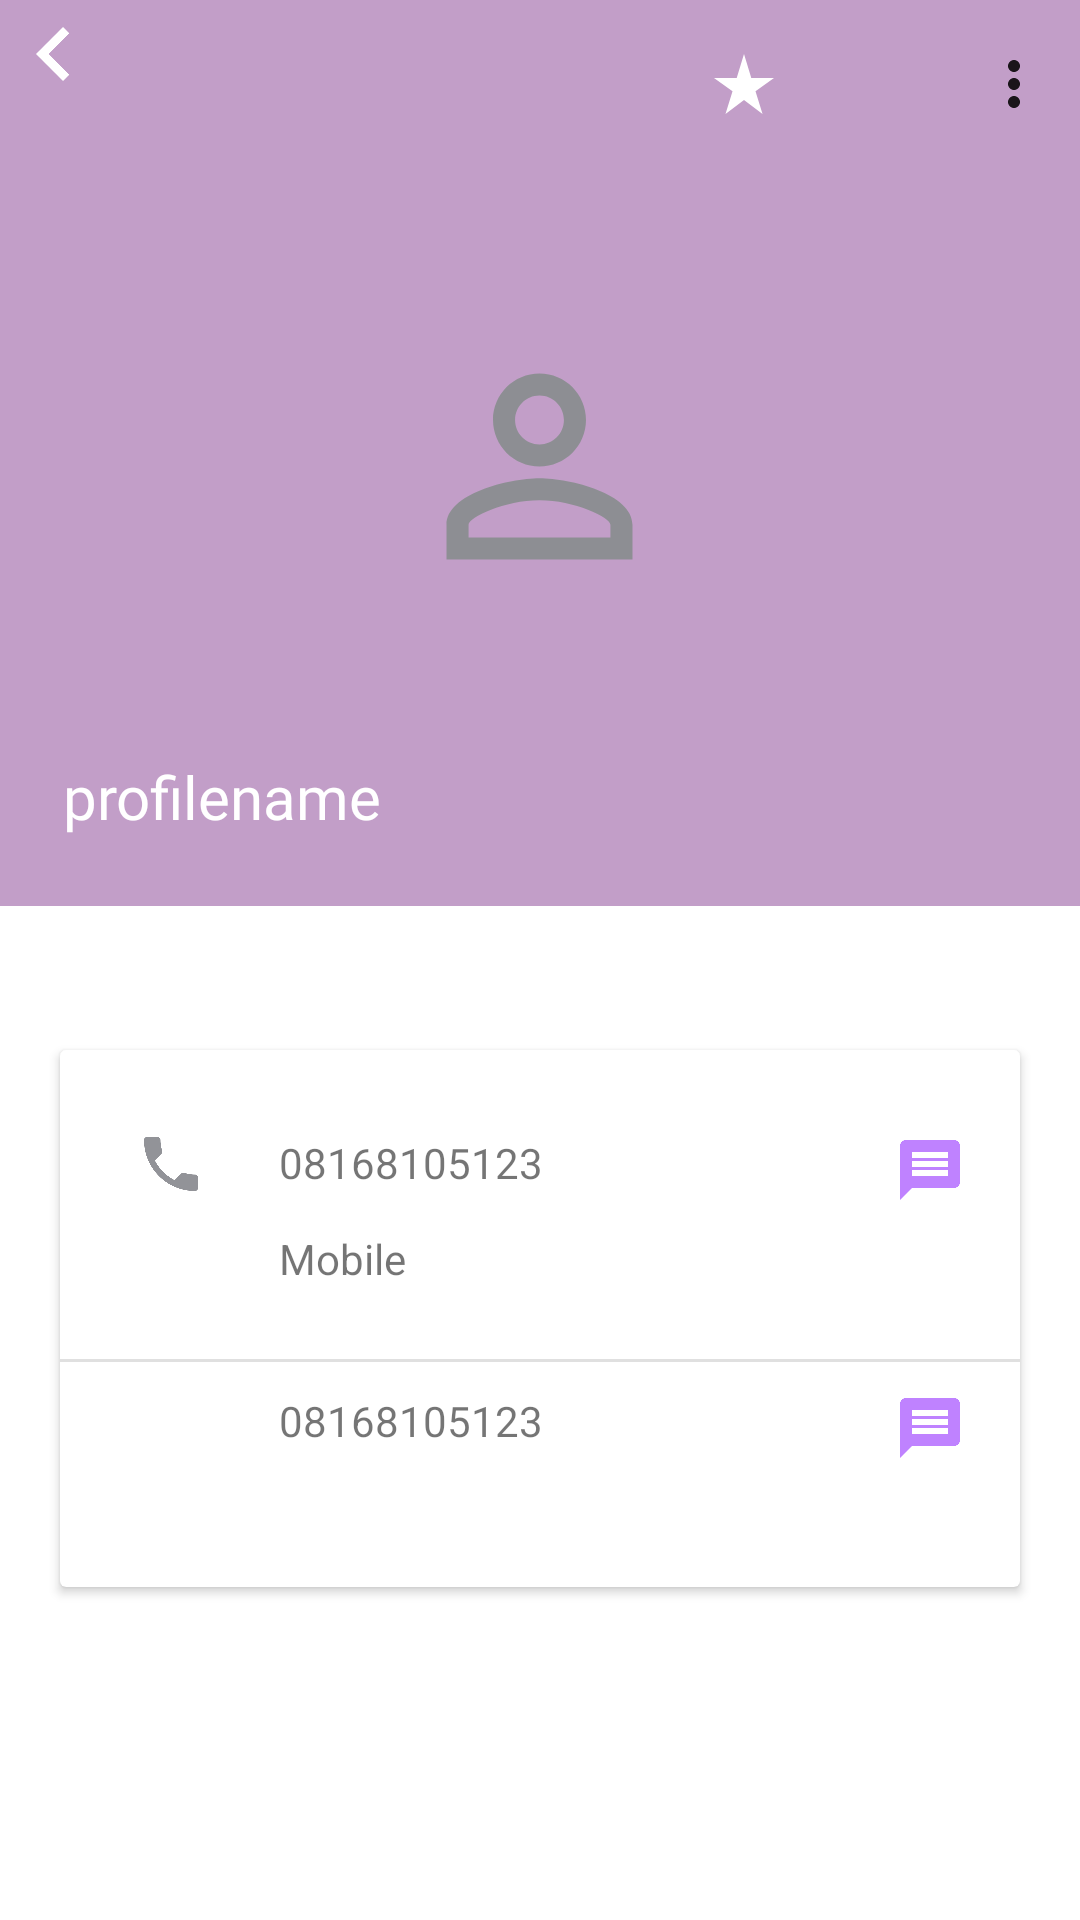

Icons on this 1080w x 1920h Android screen, each with its box as box(x1, y1, x2, y2):
backbuttonicon: box(36, 27, 69, 81)
messageicon: box(900, 1140, 960, 1200), box(900, 1398, 960, 1458)
phone: box(144, 1137, 198, 1191)
